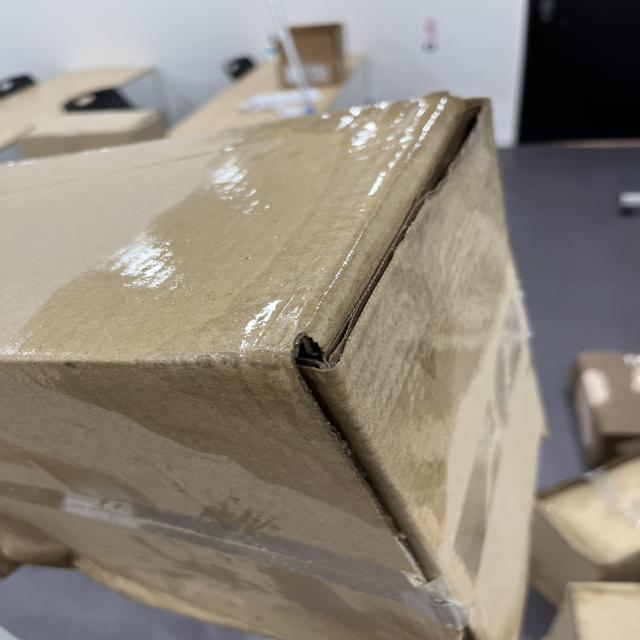wet: (80, 91, 528, 539)
